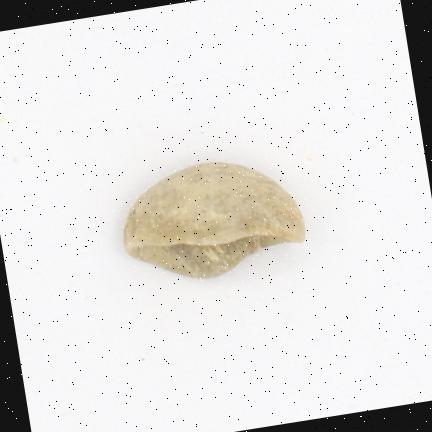shell: (126, 162, 306, 277)
